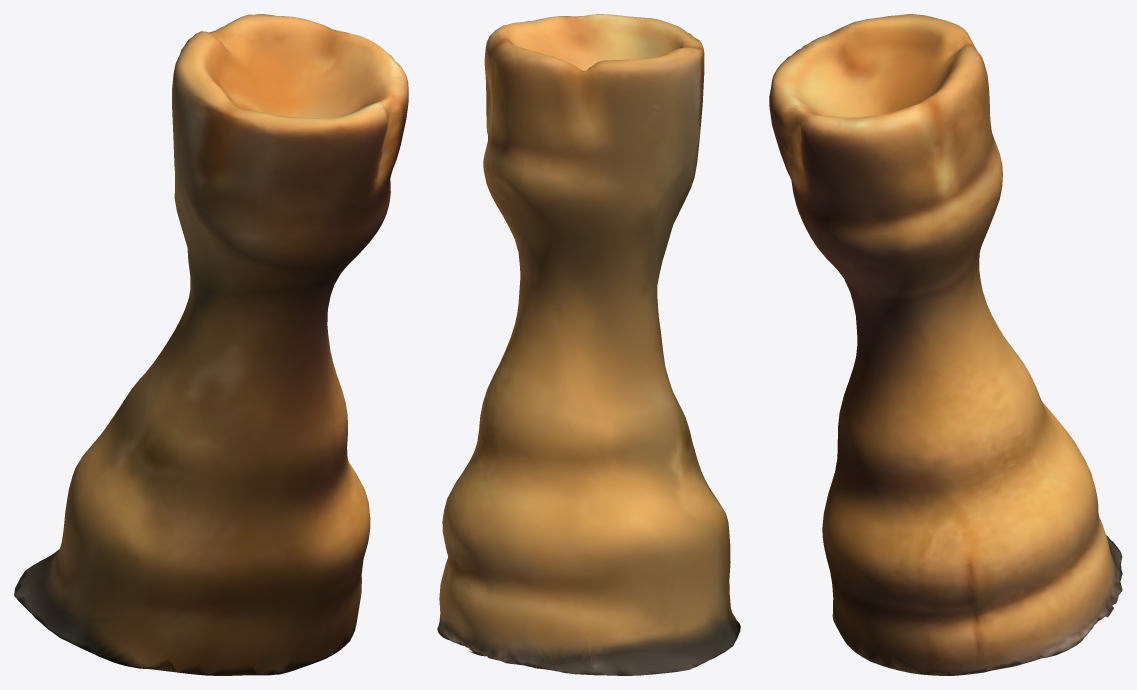
Rendered from Rook_cleaned.obj.
The picture shows the model from 3 angles, left to right: view 1: azimuth 30°, elevation 25°; view 2: azimuth 150°, elevation 25°; view 3: azimuth 270°, elevation 25°; orthographic projection. The views are drawn at different scales.
Parts seen in each view (by area): view 1: 3DModel; view 2: 3DModel; view 3: 3DModel.
Part boxes in pixels (x1,y1,x2,y2): 3DModel: (14,14,408,675); 3DModel: (437,14,740,675); 3DModel: (769,14,1122,675).
Size of the model in its own units: 0.1432 by 0.2767 by 0.1515.
Materials: 1 (1 with a texture image).
